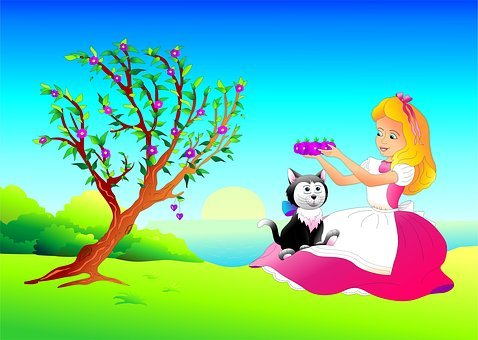cat: (257, 166, 338, 261)
person: (247, 92, 452, 301)
